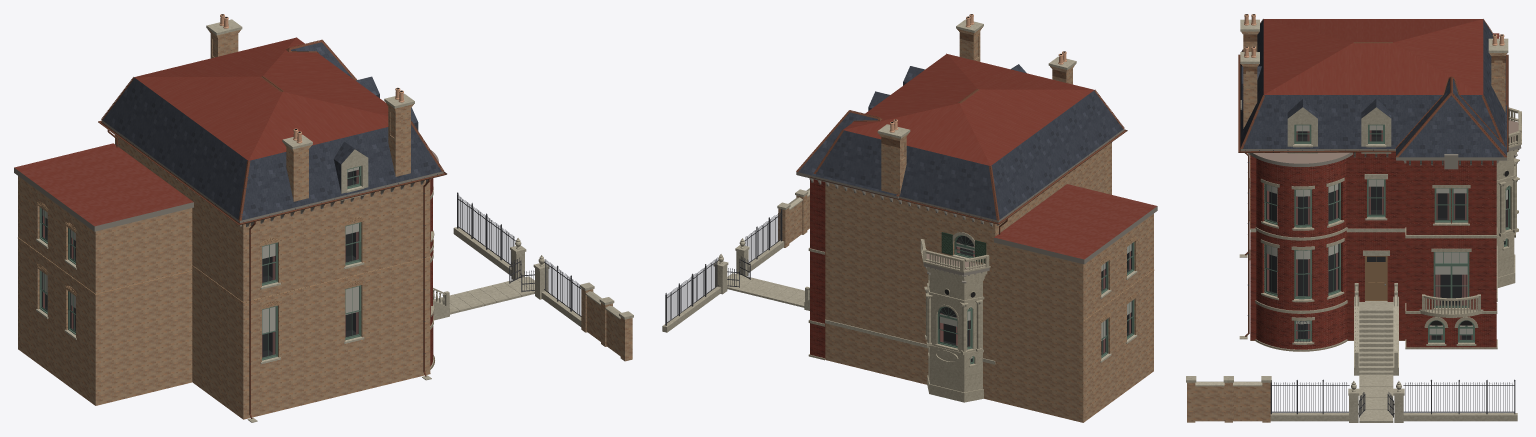
File: spalding_house_1637_prairie__as_mapped_1904.glb
3 renders of one model, left to right at view 1: azimuth 30°, elevation 25°; view 2: azimuth 150°, elevation 25°; view 3: azimuth 270°, elevation 25°, orthographic. The views are drawn at different scales.
Parts seen in each view (by area): view 1: spalding_house_1637_prairie__as_mapped_1904; view 2: spalding_house_1637_prairie__as_mapped_1904; view 3: spalding_house_1637_prairie__as_mapped_1904.
Part boxes in pixels (box(x1,y1,x2,y2)): spalding_house_1637_prairie__as_mapped_1904: box(14, 14, 633, 422); spalding_house_1637_prairie__as_mapped_1904: box(662, 14, 1157, 422); spalding_house_1637_prairie__as_mapped_1904: box(1186, 14, 1521, 422).
Bounding box in the file's own units: 27.05 × 16.55 × 17.86.
31 materials, 18 textured.
